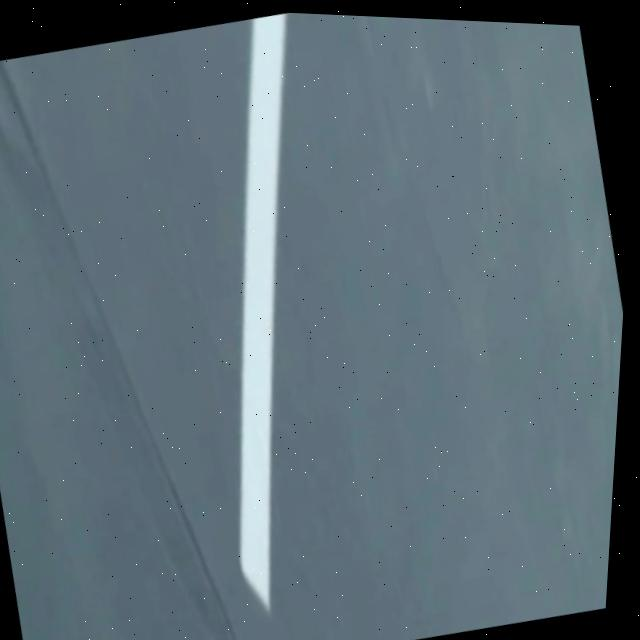center: (240, 13, 287, 610)
